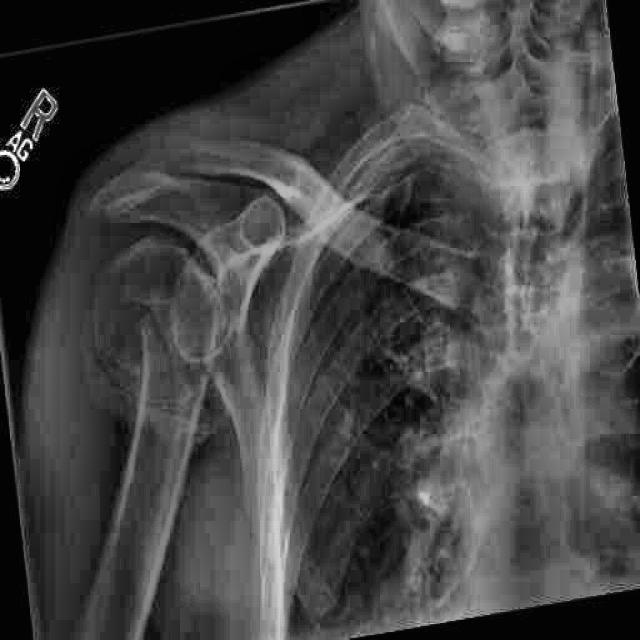shoulder fracture: (110, 260, 211, 424)
